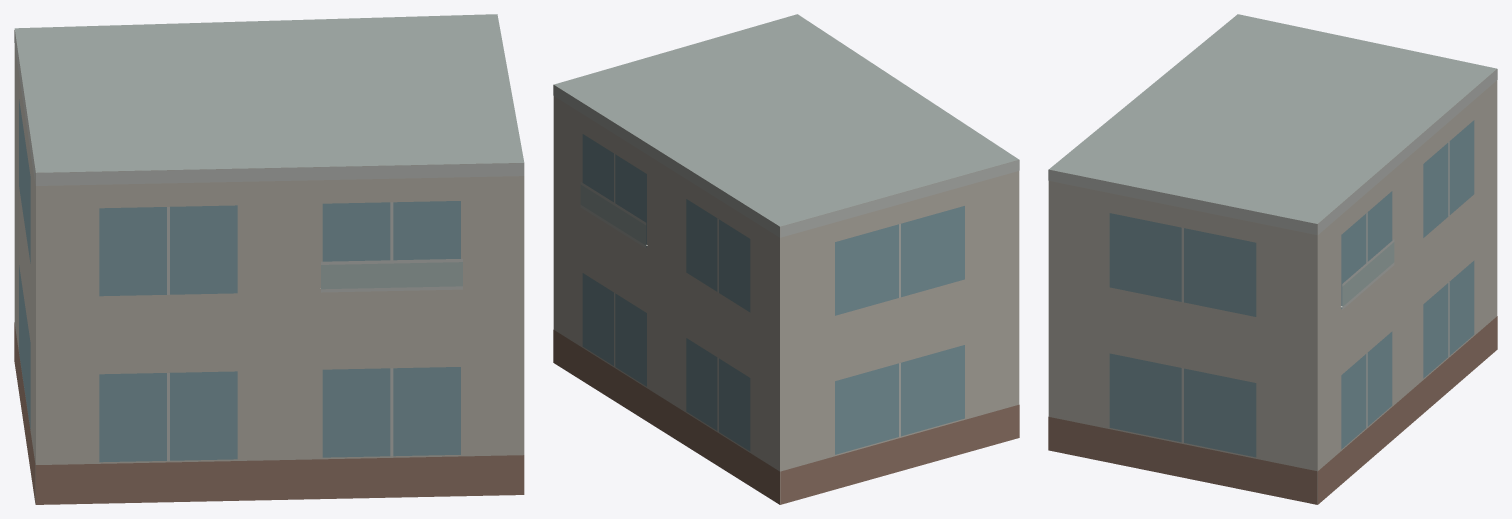
File: survey-upis-32824079.glb
3 views of the same model, side by side, from view 1: azimuth 30°, elevation 25°; view 2: azimuth 150°, elevation 25°; view 3: azimuth 270°, elevation 25° (orthographic). The views are drawn at different scales.
Parts seen in each view (by area): view 1: survey-upis-32824079.tmp; view 2: survey-upis-32824079.tmp; view 3: survey-upis-32824079.tmp.
Part boxes in pixels (bbox=[...]): survey-upis-32824079.tmp: bbox=[14, 14, 524, 504]; survey-upis-32824079.tmp: bbox=[553, 14, 1019, 504]; survey-upis-32824079.tmp: bbox=[1048, 14, 1497, 504].
Size of the model in its own units: 9.79 by 6.1 by 8.85.
